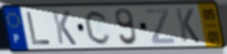9: (114, 7, 138, 47)
C: (83, 9, 113, 46)
K: (174, 7, 202, 45), (51, 10, 78, 47)
L: (25, 11, 53, 47)
Z: (144, 8, 176, 46)
